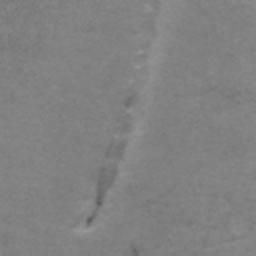Finishing roll printing: (84, 0, 164, 229)
